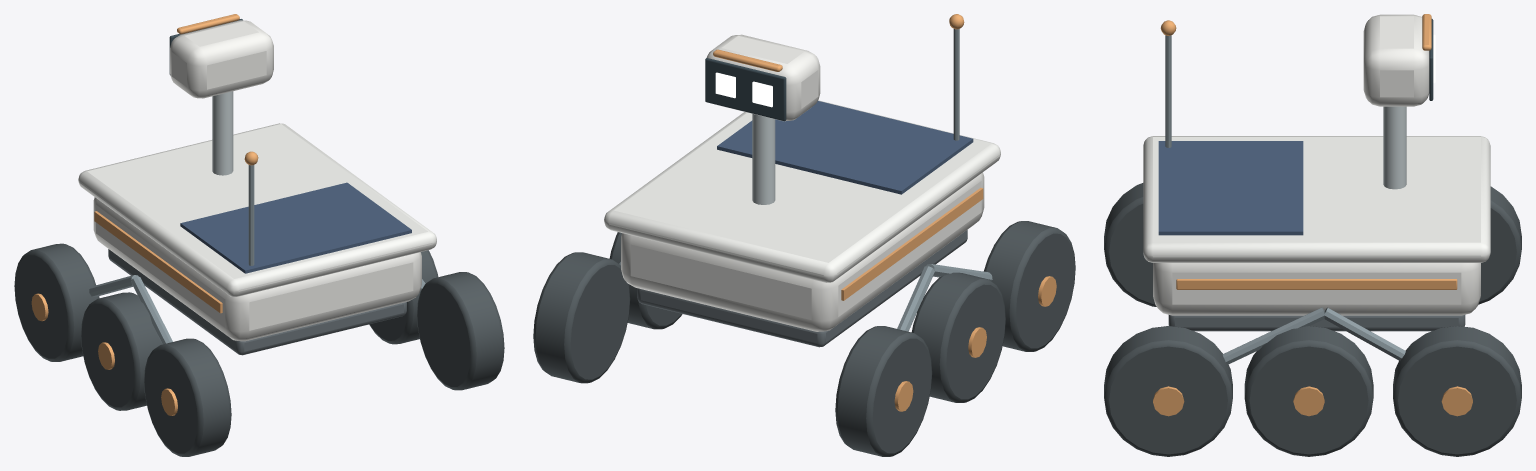
File: mini_gar_y.glb
The picture shows the model from 3 angles, left to right: view 1: azimuth 30°, elevation 25°; view 2: azimuth 150°, elevation 25°; view 3: azimuth 270°, elevation 25°; orthographic projection. The views are drawn at different scales.
Parts seen in each view (by area): view 1: wheels_black_rubber, deck_white_painted, chassis_rover_white, solar_cells_solar_cell, head_rover_white, belly_graphite, pole_alloy, trim_orange, legs_dark_alloy, hubs_orange, antenna_dark_alloy, brow_orange; view 2: wheels_black_rubber, deck_white_painted, chassis_rover_white, solar_cells_solar_cell, belly_graphite, head_rover_white, visor_dark_glass, pole_alloy, trim_orange, hubs_orange, legs_dark_alloy, eyes_eye_glow (+2 smaller); view 3: wheels_black_rubber, deck_white_painted, chassis_rover_white, solar_cells_solar_cell, head_rover_white, belly_graphite, trim_orange, legs_dark_alloy, hubs_orange, pole_alloy, antenna_dark_alloy.
Boxes of the visible parts, <box> form: wheels_black_rubber: <box>14,243,504,456</box>; deck_white_painted: <box>78,123,436,296</box>; chassis_rover_white: <box>93,197,421,341</box>; solar_cells_solar_cell: <box>180,182,411,273</box>; head_rover_white: <box>170,20,273,98</box>; belly_graphite: <box>108,249,406,355</box>; pole_alloy: <box>212,91,233,175</box>; trim_orange: <box>94,211,222,313</box>; legs_dark_alloy: <box>89,275,425,344</box>; hubs_orange: <box>31,293,177,415</box>; antenna_dark_alloy: <box>248,165,254,265</box>; brow_orange: <box>177,14,239,34</box>; wheels_black_rubber: <box>533,221,1075,456</box>; deck_white_painted: <box>604,100,1000,282</box>; chassis_rover_white: <box>621,172,984,331</box>; solar_cells_solar_cell: <box>717,101,973,194</box>; belly_graphite: <box>637,230,967,347</box>; head_rover_white: <box>706,34,820,121</box>; visor_dark_glass: <box>705,58,786,121</box>; pole_alloy: <box>752,114,775,204</box>; trim_orange: <box>841,187,983,300</box>; hubs_orange: <box>894,276,1056,411</box>; legs_dark_alloy: <box>619,262,992,331</box>; eyes_eye_glow: <box>715,72,772,107</box>; wheels_black_rubber: <box>1104,183,1521,456</box>; deck_white_painted: <box>1143,136,1490,262</box>; chassis_rover_white: <box>1153,263,1480,315</box>; solar_cells_solar_cell: <box>1158,141,1303,235</box>; head_rover_white: <box>1363,14,1429,106</box>; belly_graphite: <box>1168,315,1465,331</box>; trim_orange: <box>1176,279,1457,289</box>; legs_dark_alloy: <box>1222,307,1405,364</box>; hubs_orange: <box>1153,386,1472,416</box>; pole_alloy: <box>1383,106,1406,189</box>; antenna_dark_alloy: <box>1165,35,1171,147</box>.
Size of the model in its own units: 0.2472 by 0.2347 by 0.2568.
